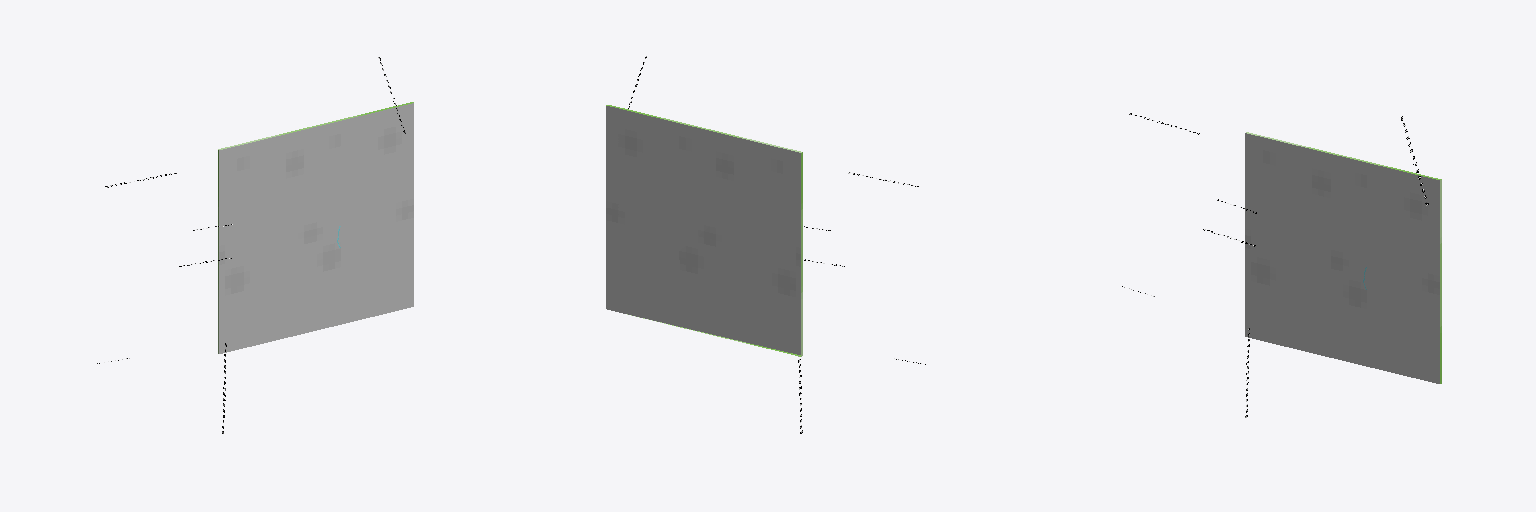
3 views of the same model, side by side, from view 1: azimuth 30°, elevation 25°; view 2: azimuth 150°, elevation 25°; view 3: azimuth 330°, elevation 25° (orthographic).
Visible parts, largest first — view 1: POLYGON; view 2: POLYGON; view 3: POLYGON.
Part boxes in pixels (x1,y1,x2,y2): POLYGON: (218,102,413,353); POLYGON: (606,105,802,356); POLYGON: (1245,132,1441,383).
Size of the model in its own units: 997 by 1025 by 27.24.
Materials: 4 (4 with a texture image).